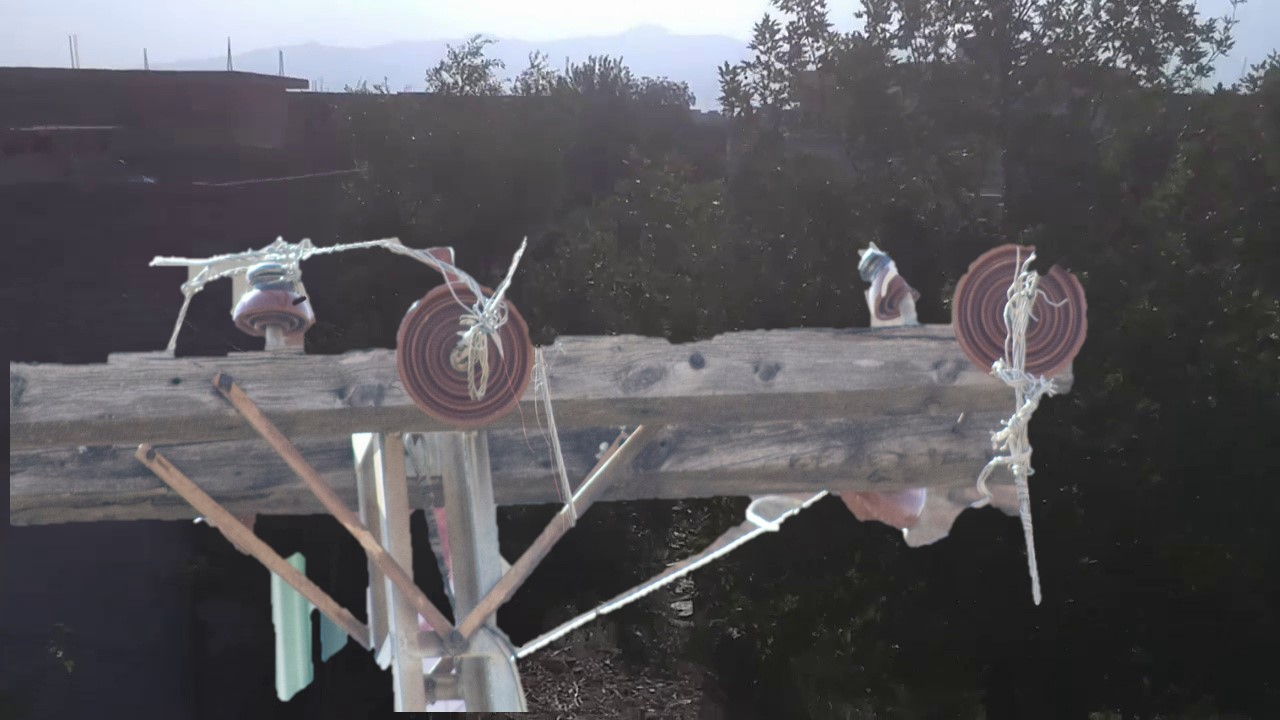defect_pin: (849, 239, 925, 334)
insulator_disc: (390, 274, 536, 439), (946, 240, 1094, 380)
insulator_pin: (229, 252, 318, 345)
